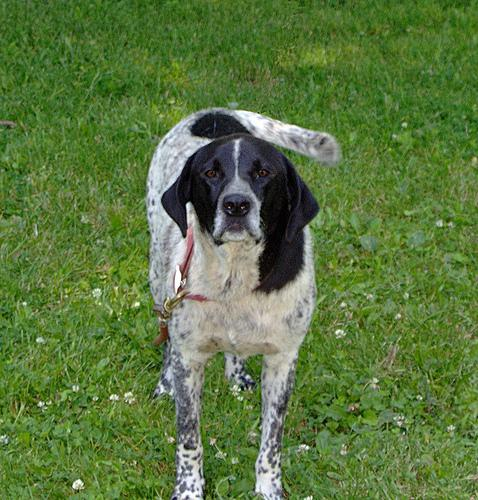dog: (159, 131, 318, 244)
